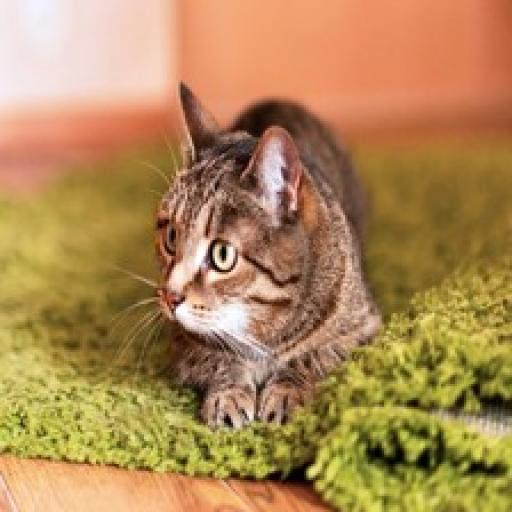cat: (125, 66, 389, 428)
